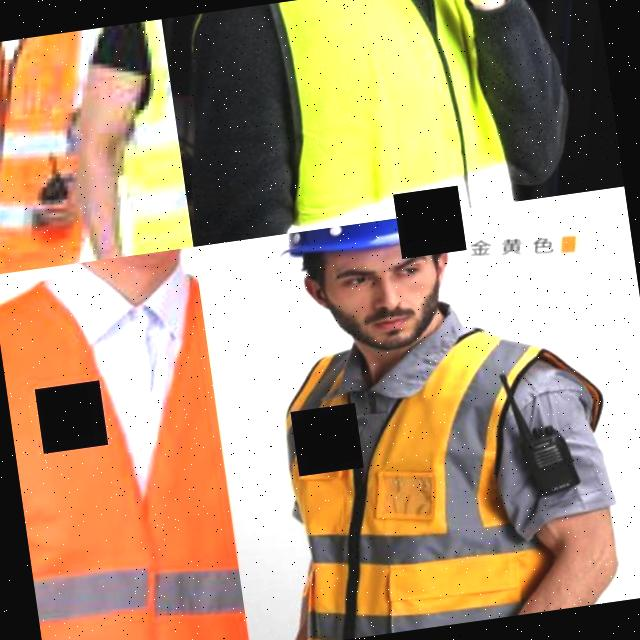vest: (239, 307, 584, 640), (174, 0, 582, 245), (0, 246, 250, 640), (0, 25, 151, 275), (100, 19, 194, 256)
